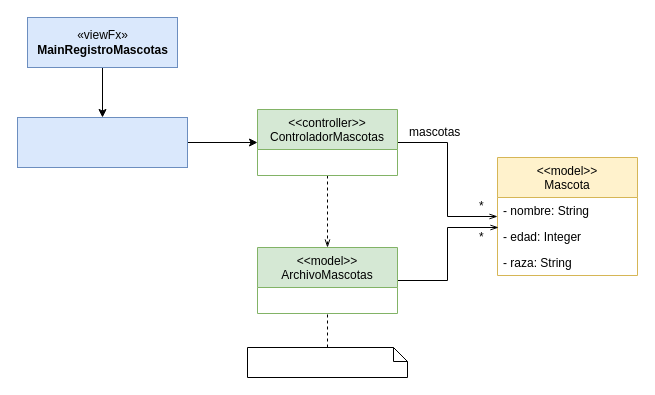
Some shapes in this 655 by 395 pixel diagram are drawn without their labels. Each missing label, with the centre of its shape:
"Solo para el uso de JAXB" goes at pixel 327 362.
"«viewFx» VentanaPrincipalController" goes at pixel 102 142.
